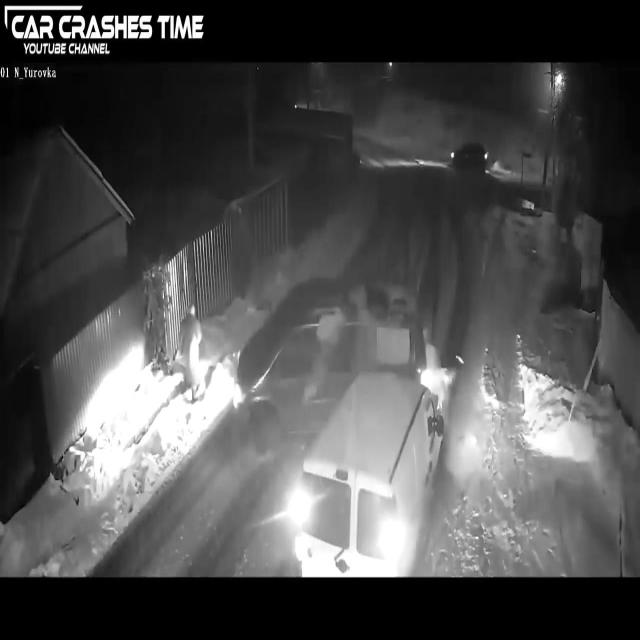accident: (231, 266, 448, 578)
